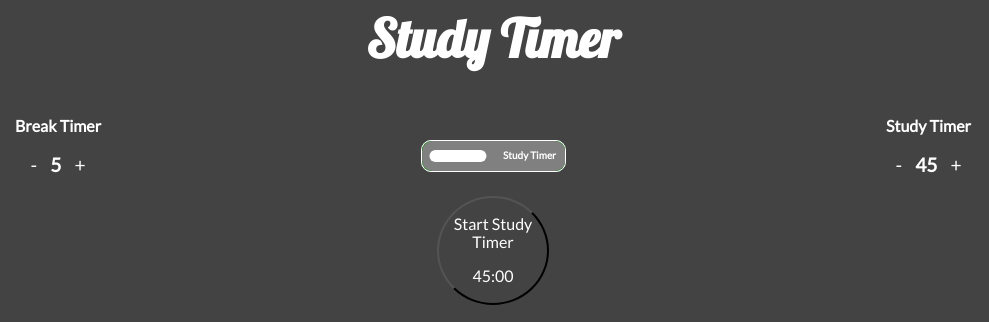
Test: Pomodoro Clock › can switch between break time and study time
Click the element with test id "controls-timer-state-container".
click(494, 156)  # box [421,140,566,172]
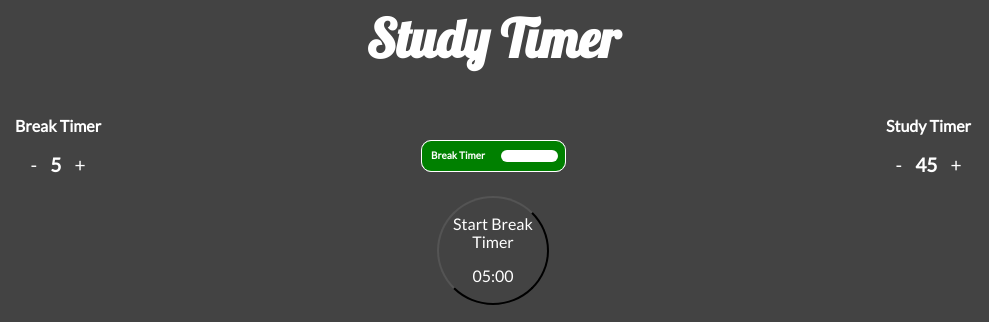
Now the text with test id "timer-label" reads "Start Break Timer", box [453,214,533,251]
Click the element with test id "controls-timer-state-container".
click(494, 156)  # box [421,140,566,172]
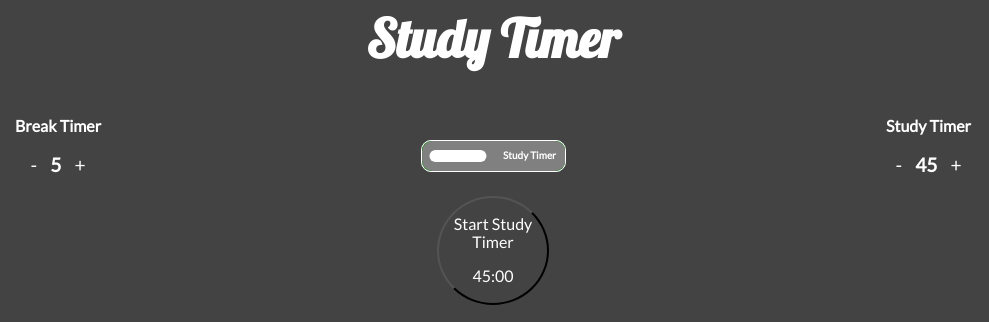
Now the text with test id "timer-label" reads "Start Study Timer", box [454,214,532,251]
